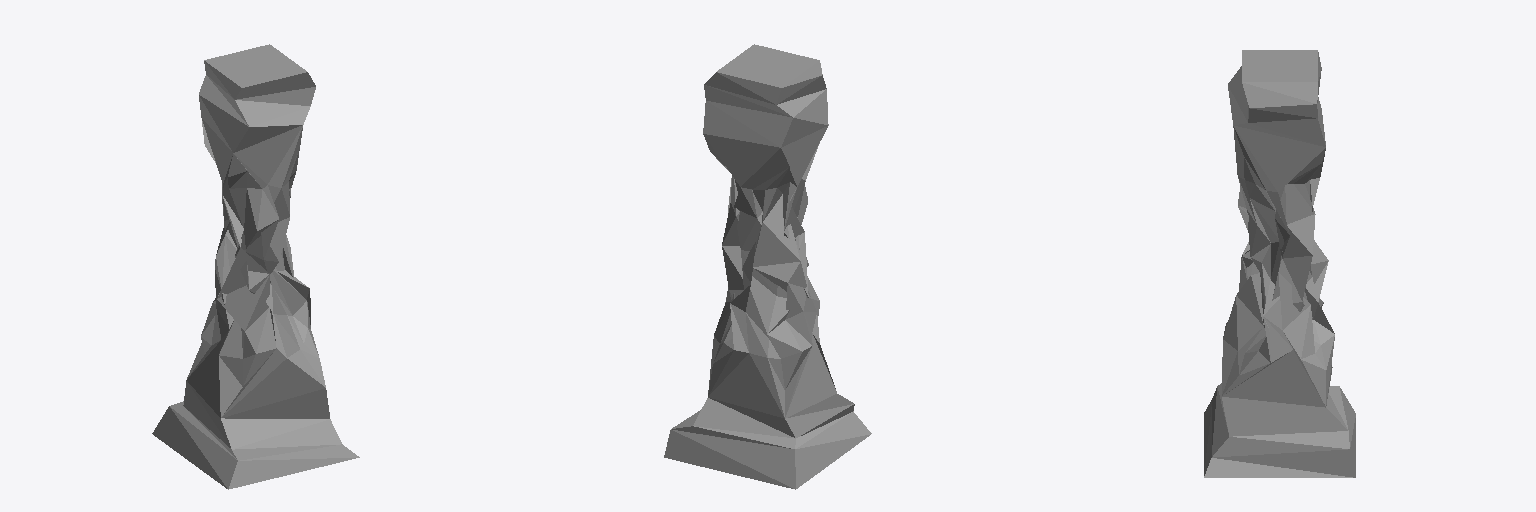
The model's file is Rock.obj.
3 views of the same model, side by side, from view 1: azimuth 30°, elevation 25°; view 2: azimuth 150°, elevation 25°; view 3: azimuth 270°, elevation 25° (orthographic).
Visible parts, largest first — view 1: Dirt50.003_Dirt50.001; view 2: Dirt50.003_Dirt50.001; view 3: Dirt50.003_Dirt50.001.
Part boxes in pixels (x1,y1,x2,y2): Dirt50.003_Dirt50.001: (152, 44, 359, 489); Dirt50.003_Dirt50.001: (664, 44, 871, 489); Dirt50.003_Dirt50.001: (1204, 50, 1355, 477).
Bounding box in the file's own units: 1 × 2.75 × 1.